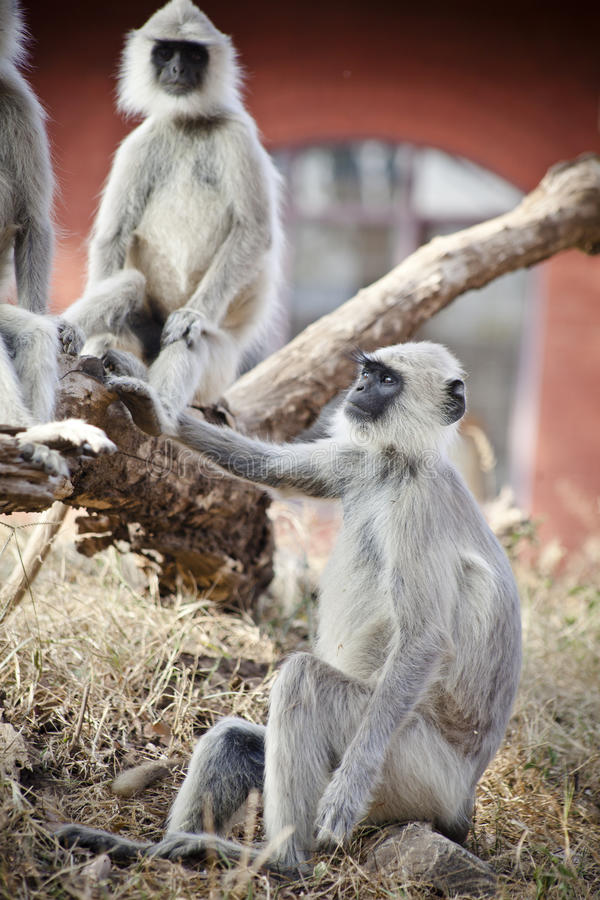monkey: (124, 328, 535, 868), (53, 1, 312, 426)
